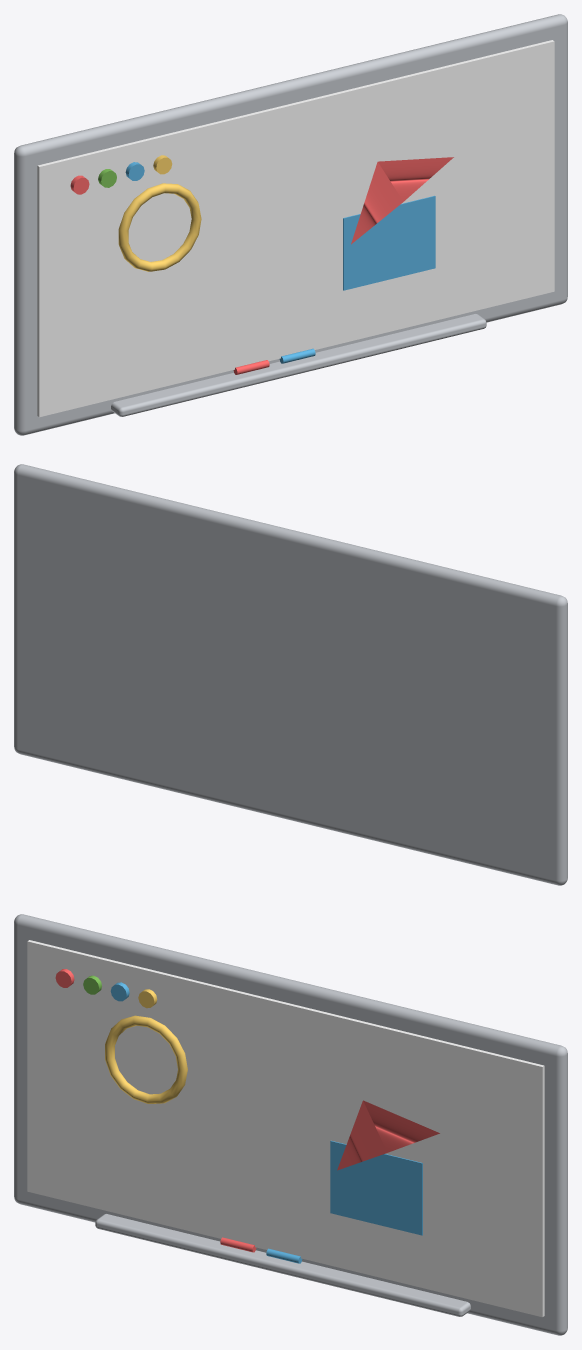
The model's file is kboard-white.glb.
3 renders of one model, top to bottom at view 1: azimuth 30°, elevation 25°; view 2: azimuth 150°, elevation 25°; view 3: azimuth 330°, elevation 25°, orthographic.
Size of the model in its own units: 2.4 by 1.2 by 0.13.
